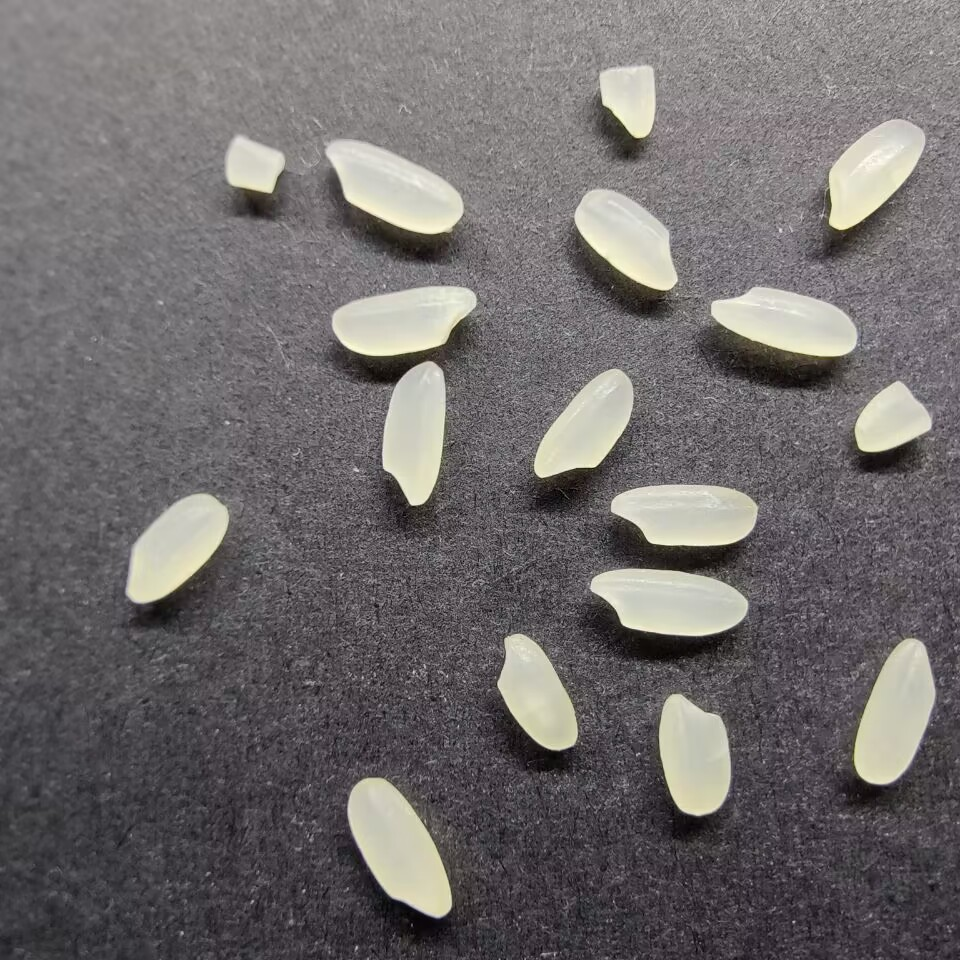broken: (852, 378, 936, 453), (595, 63, 659, 139), (221, 132, 289, 194)
rice: (345, 774, 454, 919), (320, 137, 465, 234), (850, 637, 938, 786), (120, 491, 231, 606), (823, 117, 928, 233), (531, 367, 636, 480), (588, 567, 751, 638), (706, 283, 860, 358), (572, 187, 681, 292), (328, 283, 479, 357), (376, 360, 447, 509), (495, 630, 580, 750), (657, 691, 735, 816), (609, 484, 760, 546)
